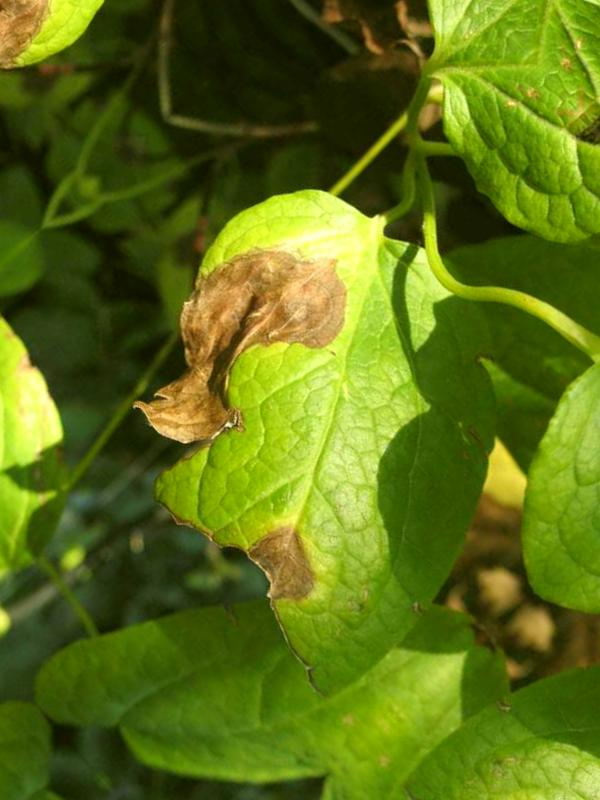Tomato leaf bacterial spot: (28, 115, 600, 710)
